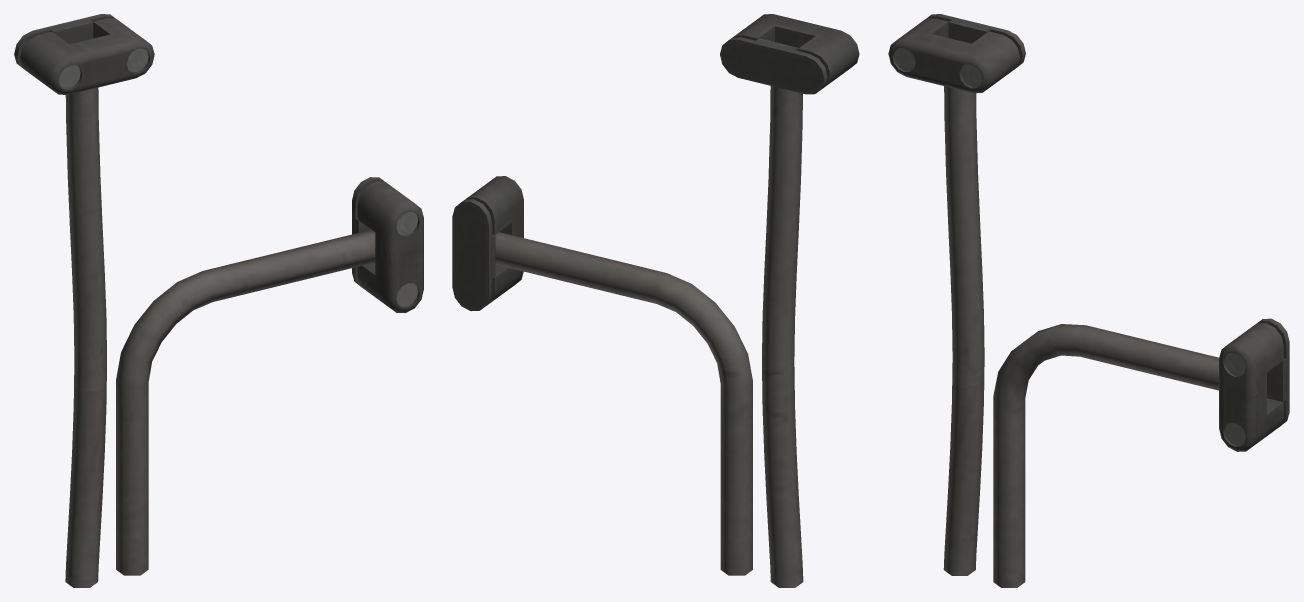
The model's file is cable_double_junction.gltf.
3 views of the same model, side by side, from view 1: azimuth 30°, elevation 25°; view 2: azimuth 150°, elevation 25°; view 3: azimuth 330°, elevation 25° (orthographic). The views are drawn at different scales.
Parts seen in each view (by area): view 1: cable_double_junction; view 2: cable_double_junction; view 3: cable_double_junction.
Boxes of the visible parts, box(x1,y1,x2,y2) form: cable_double_junction: box(14, 14, 423, 587); cable_double_junction: box(452, 14, 859, 587); cable_double_junction: box(888, 14, 1289, 587).
Size of the model in its own units: 0.1481 by 0.2073 by 0.0259.
1 material, 1 textured.
